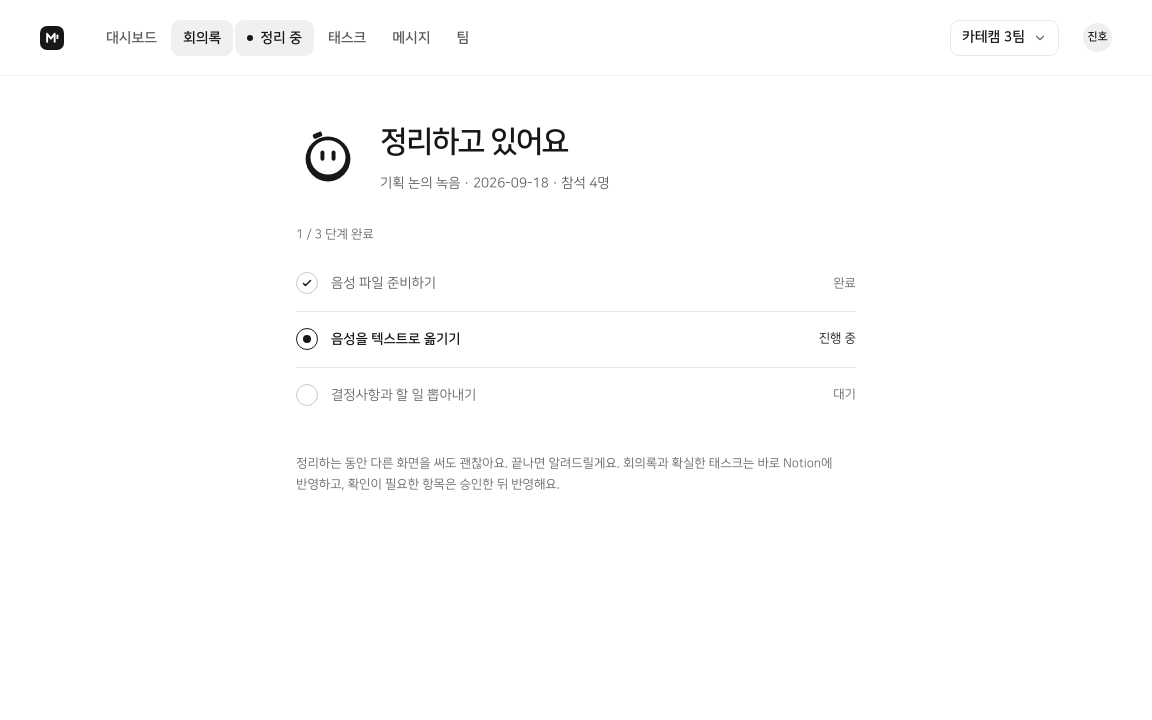
Test: 발견과 등록 (U4-1, U4-2) › 다른 화면으로 옮겨도 polling 이 이어지고, 다른 화면에서 끝나면 토스트만 띄우고 옮기지 않는다
expect the heading "정리하고 있어요" is shown: met, box [380, 125, 568, 159]
Click the link "태스크".
click(347, 38)  # box [328, 30, 366, 46]
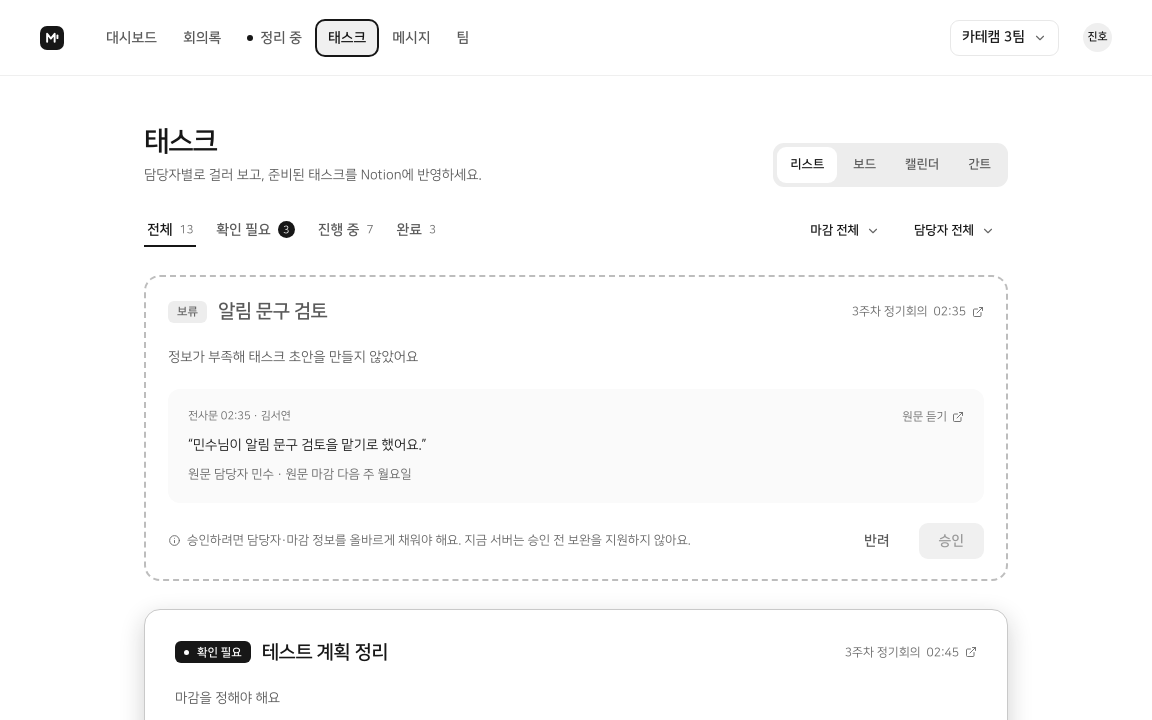
expect the heading "태스크" is shown: met, box [144, 126, 217, 157]
